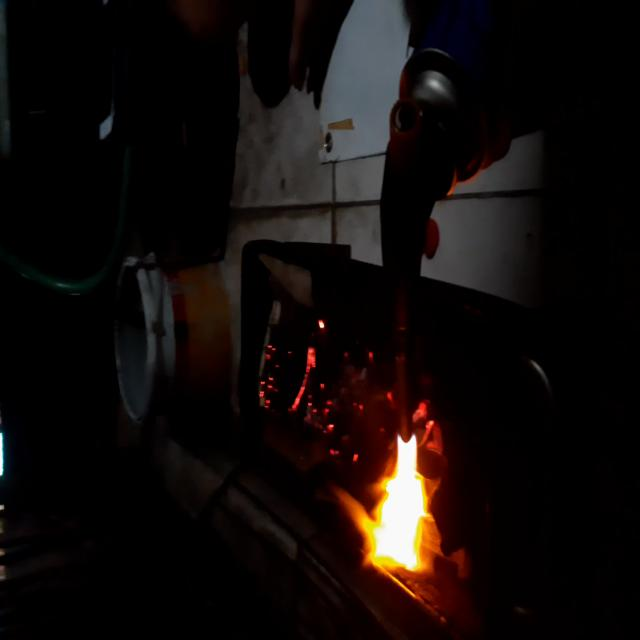Fire: (244, 299, 388, 462), (366, 426, 441, 587), (418, 389, 464, 487)
